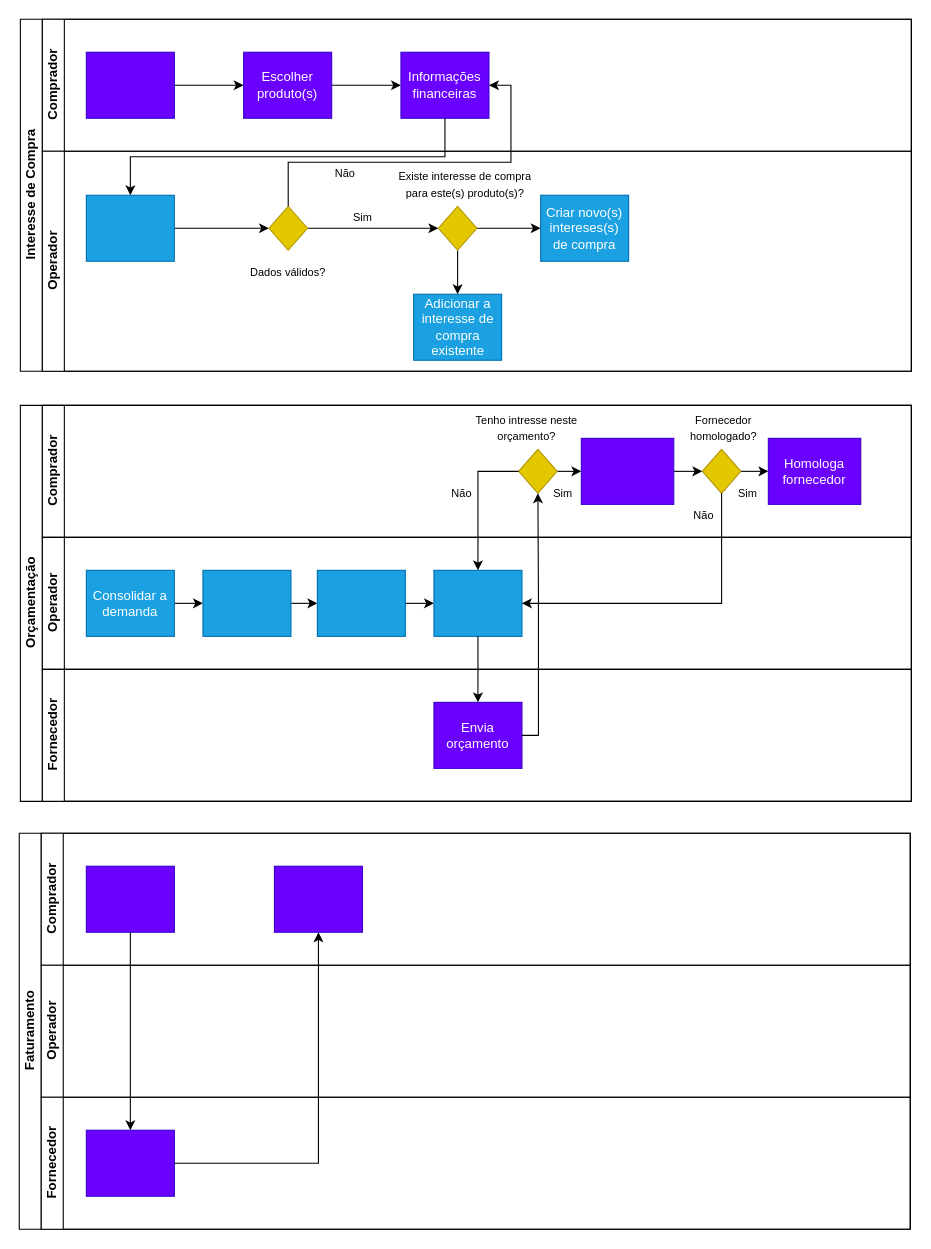
The diagram is 931 pixels wide and 1249 high, and some of its shapes have lost their labels. Each missing label, with the centre of its shape:
"Aprova orçamento" goes at (x=627, y=470).
"Cria RFQ" goes at (x=129, y=84).
"Efetuar pagamento" goes at (x=317, y=898).
"Enviar ordem de compra" goes at (x=129, y=898).
"Faturar o pedido" goes at (x=129, y=1162).
"Projetar preços" goes at (x=360, y=602).
"Selecionar fornecedores" goes at (x=246, y=602).
"Solicitar orçamentos" goes at (x=477, y=602).
"Validar os Dados" goes at (x=129, y=227).
